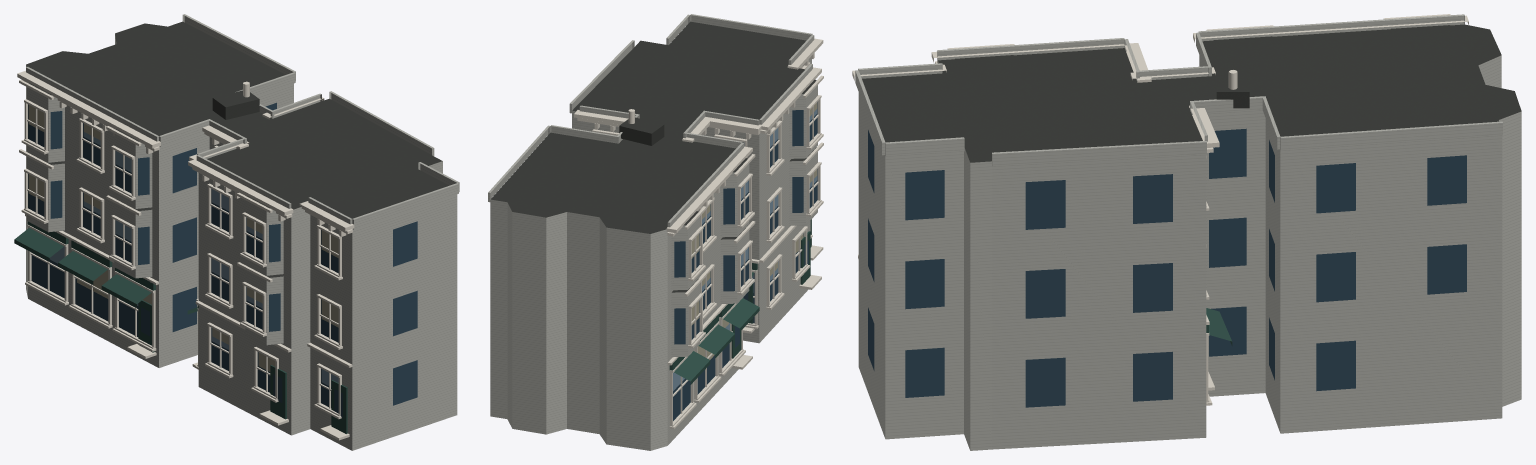
The picture shows the model from 3 angles, left to right: view 1: azimuth 30°, elevation 25°; view 2: azimuth 150°, elevation 25°; view 3: azimuth 270°, elevation 25°; orthographic projection. The views are drawn at different scales.
Parts seen in each view (by area): view 1: Footprint 0 / surface 2, Footprint 0 / surface 1, Cornices and window frames, Inset glazing, Facade bay volumes, Storefronts and doors, Interior blind variation, Sky reflection panels, Inferred rooftop service enclosure / surface 5; view 2: Footprint 0 / surface 2, Footprint 0 / surface 1, Cornices and window frames, Facade bay volumes, Inset glazing, Storefronts and doors, Interior blind variation, Sky reflection panels, Inferred rooftop service enclosure / surface 6, Inferred rooftop service enclosure / surface 3; view 3: Footprint 0 / surface 2, Footprint 0 / surface 1, Inset glazing, Facade bay volumes, Cornices and window frames.
Part boxes in pixels (x1,y1,x2,y2): Footprint 0 / surface 2: (26, 34, 457, 450); Footprint 0 / surface 1: (26, 21, 448, 218); Cornices and window frames: (17, 70, 354, 440); Inset glazing: (28, 102, 417, 417); Facade bay volumes: (26, 14, 459, 345); Storefronts and doors: (14, 221, 347, 433); Interior blind variation: (28, 105, 338, 371); Sky reflection panels: (49, 123, 338, 386); Inferred rooftop service enclosure / surface 5: (225, 99, 259, 119); Footprint 0 / surface 2: (490, 58, 811, 450); Footprint 0 / surface 1: (490, 21, 806, 233); Cornices and window frames: (574, 38, 823, 429); Facade bay volumes: (488, 14, 817, 357); Inset glazing: (673, 102, 817, 420); Storefronts and doors: (669, 219, 811, 384); Interior blind variation: (620, 102, 817, 359); Sky reflection panels: (673, 109, 817, 390); Inferred rooftop service enclosure / surface 6: (619, 126, 651, 145); Inferred rooftop service enclosure / surface 3: (619, 117, 663, 133); Footprint 0 / surface 2: (858, 55, 1521, 450); Footprint 0 / surface 1: (862, 24, 1521, 162); Inset glazing: (868, 128, 1466, 407); Facade bay volumes: (855, 14, 1502, 166); Cornices and window frames: (852, 14, 1468, 405).
Bounding box in the file's own units: 12.79 × 12.76 × 24.13.
